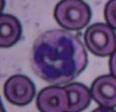N: (32, 29, 86, 84)
